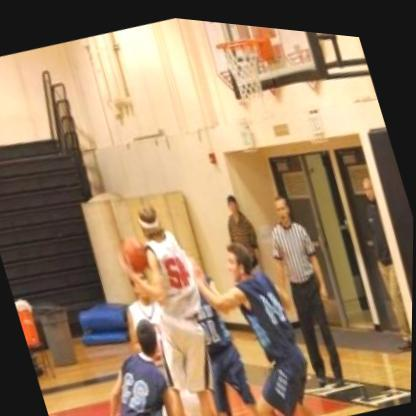basketball: (118, 230, 153, 273)
